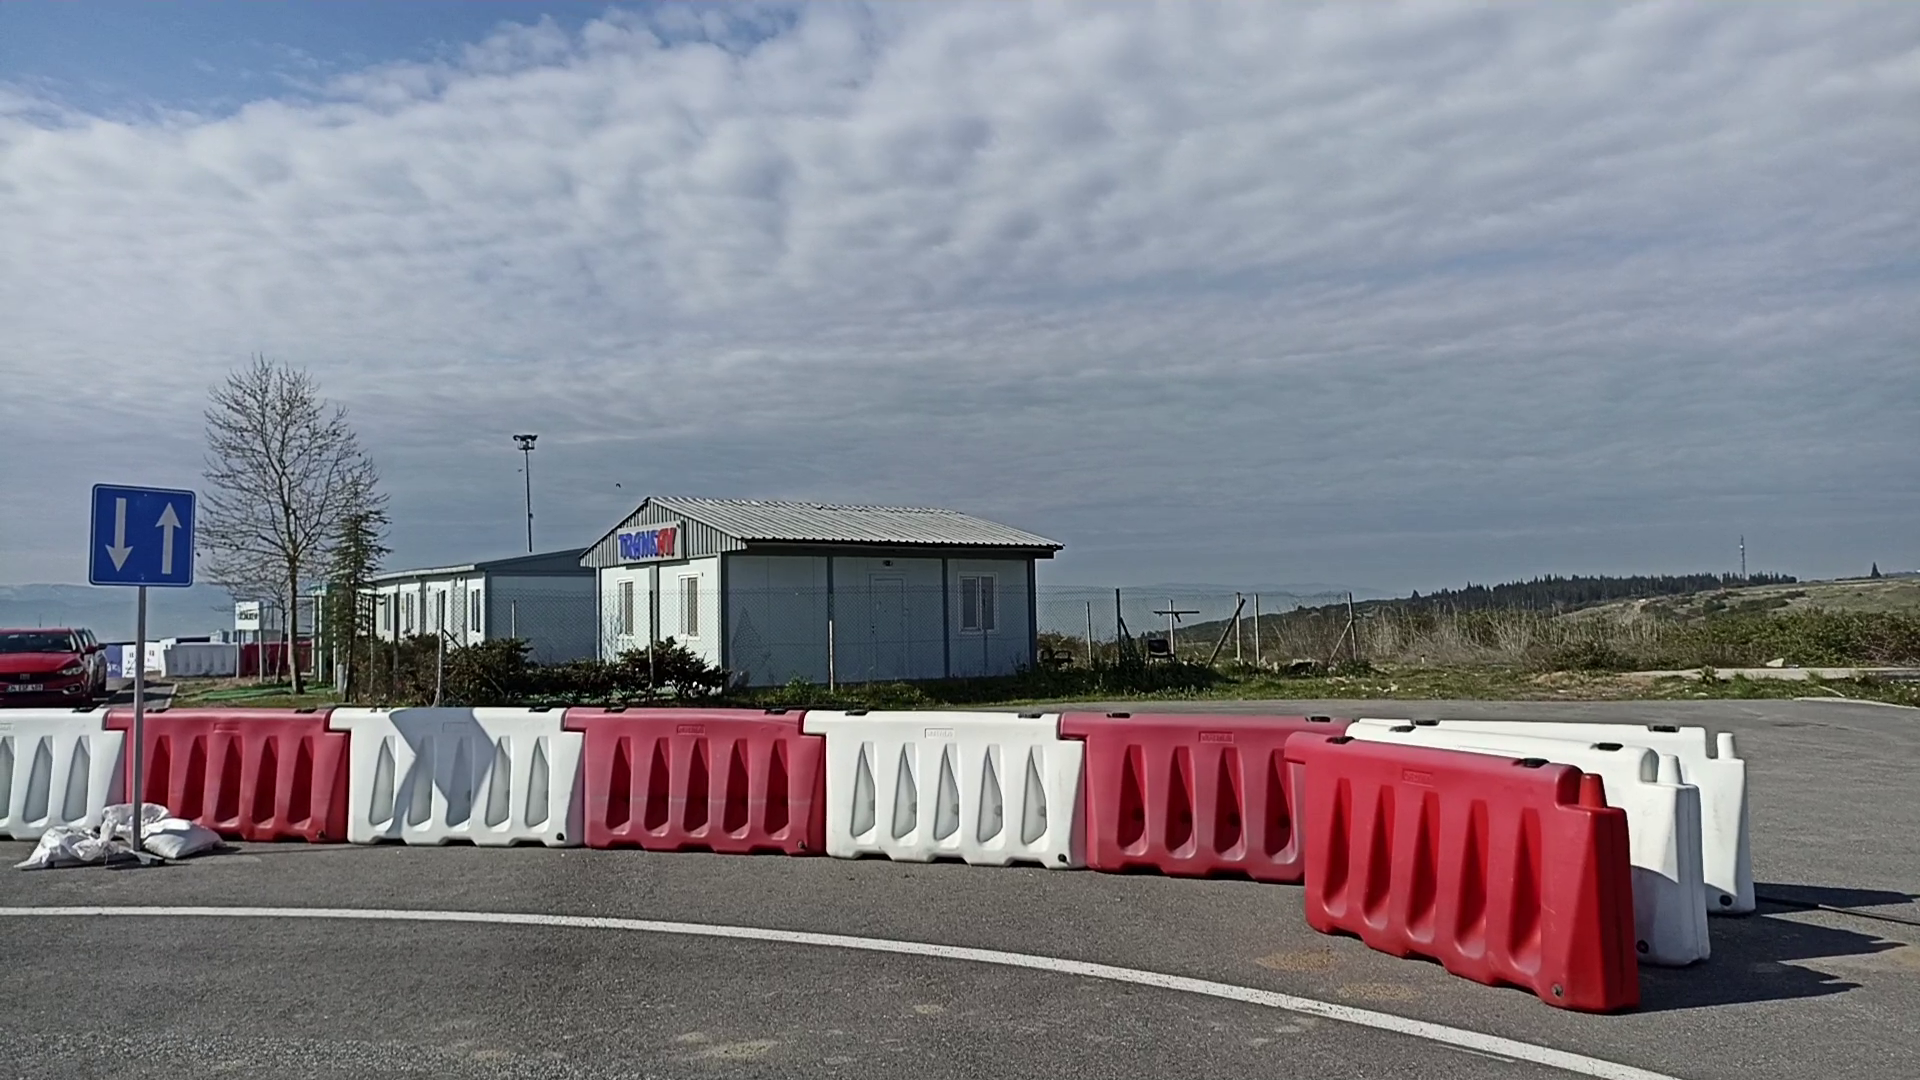oneway: (87, 483, 199, 589)
